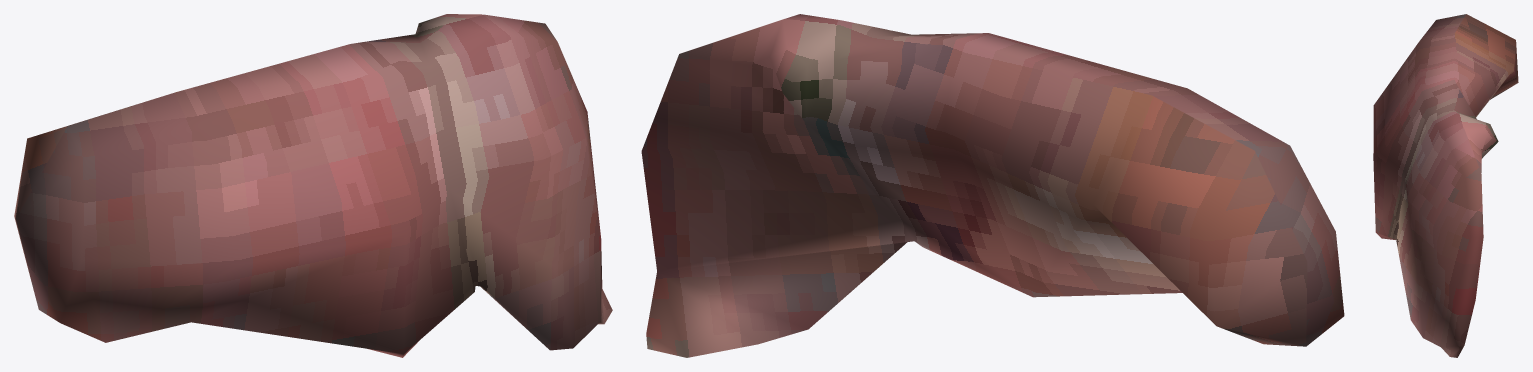
Rendered from eqp_organ_liver_s01_l2.fbx.
3 renders of one model, left to right at view 1: azimuth 30°, elevation 25°; view 2: azimuth 150°, elevation 25°; view 3: azimuth 270°, elevation 25°, orthographic. The views are drawn at different scales.
Visible parts, largest first — view 1: mesh_node; view 2: mesh_node; view 3: mesh_node.
Part boxes in pixels (x1,y1,x2,y2): mesh_node: [14, 14, 612, 357]; mesh_node: [641, 14, 1344, 357]; mesh_node: [1373, 14, 1518, 357].
Bounding box in the file's own units: 0.3138 × 0.1731 × 0.1118.
